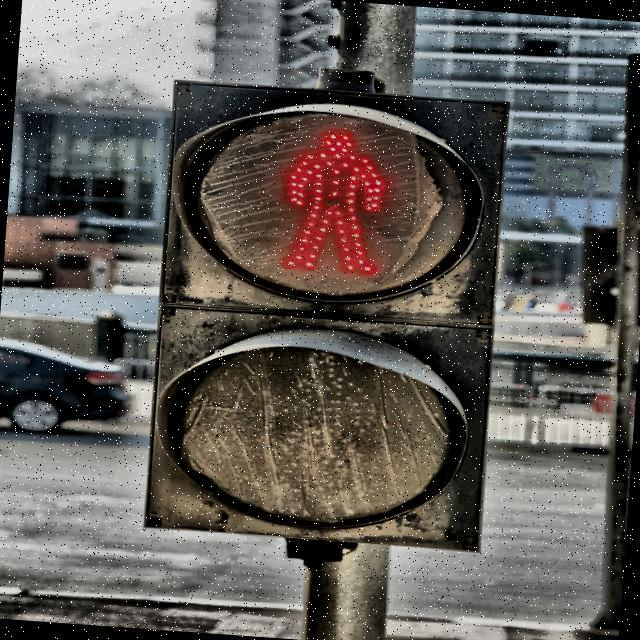red_light: (270, 121, 398, 283)
